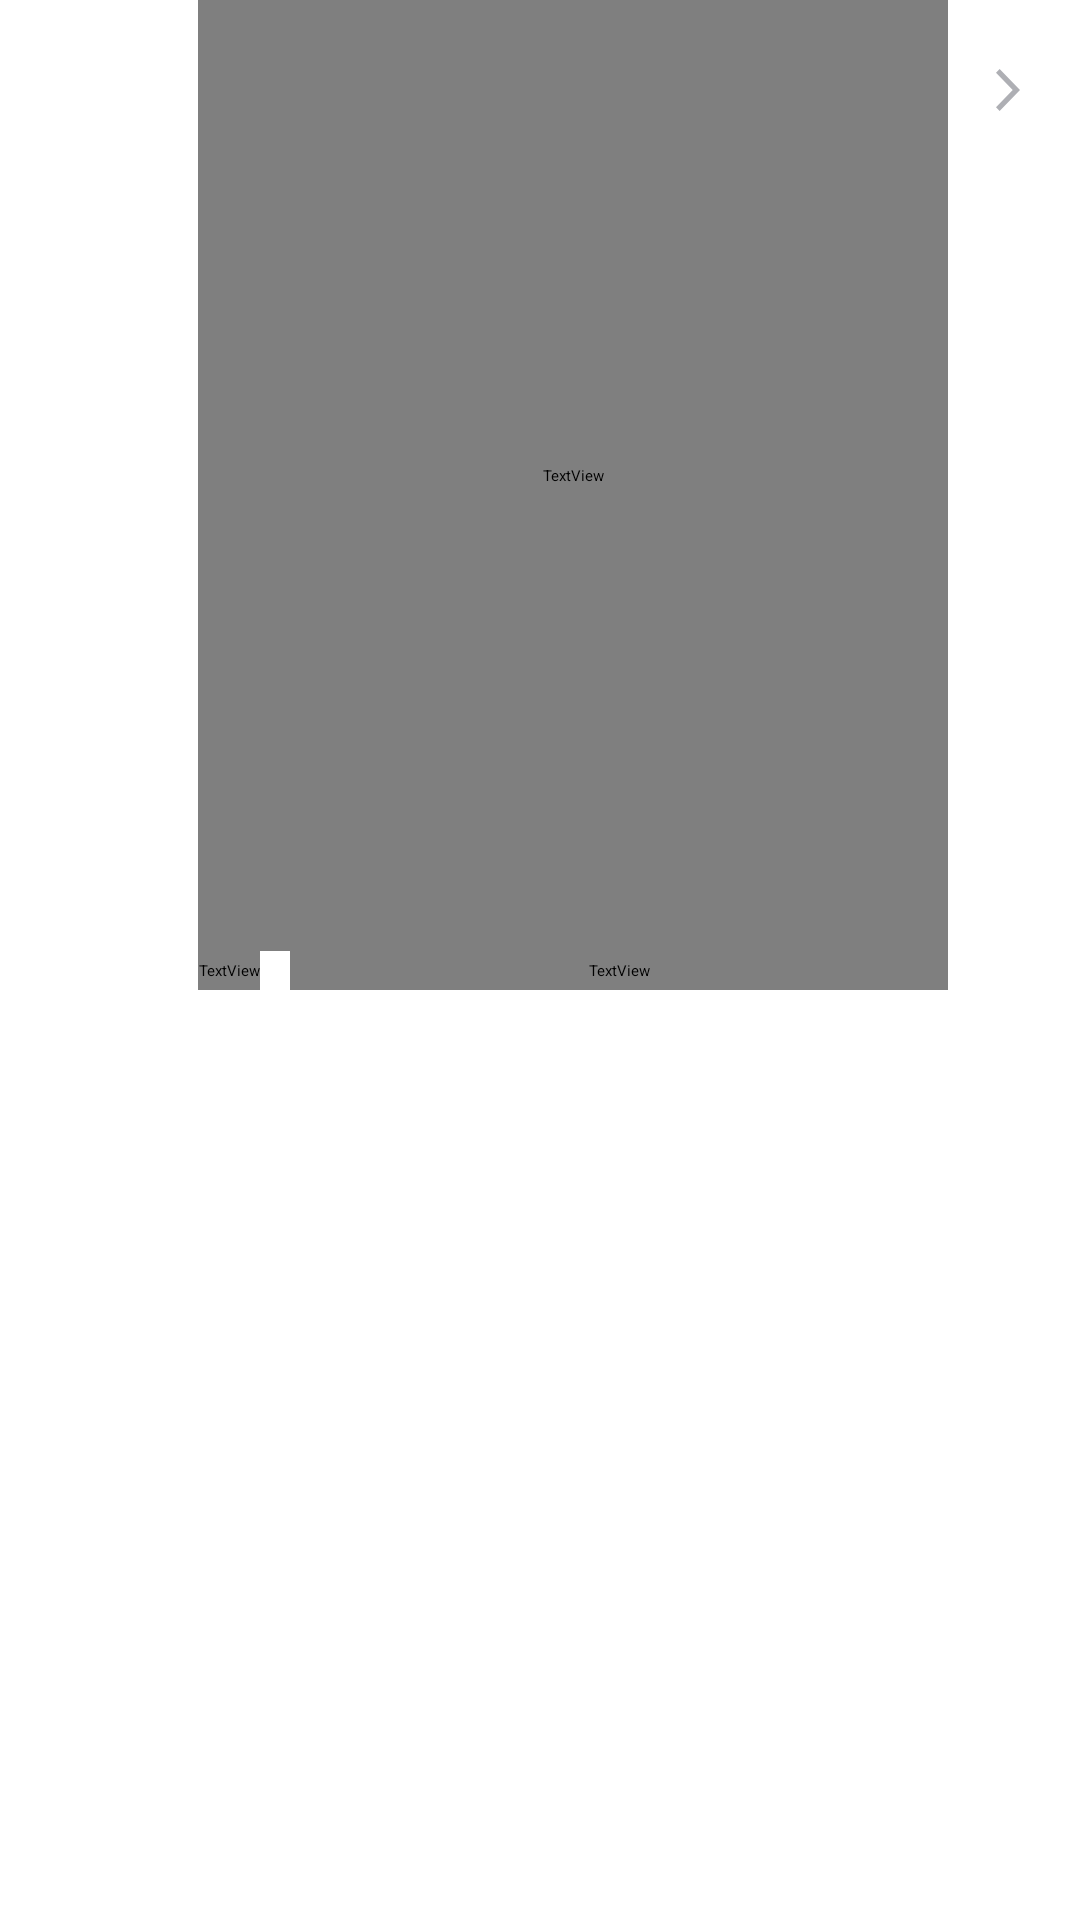

Screen size 1080×1920. Icon name, then its center in pixels as (x=x, y=y):
arrow next: (x=1008, y=90)
